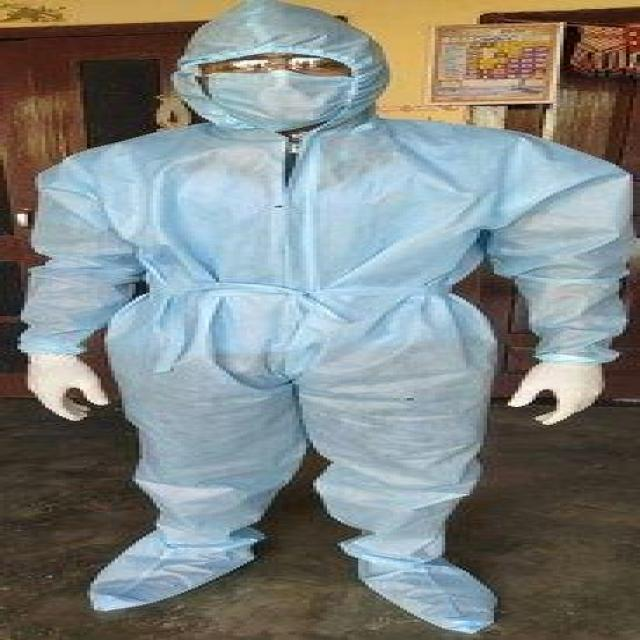Coverall: (11, 5, 623, 636)
Gloves: (42, 339, 230, 428), (480, 364, 630, 469)
Goggles: (202, 41, 365, 83)
Mask: (191, 68, 421, 114)
